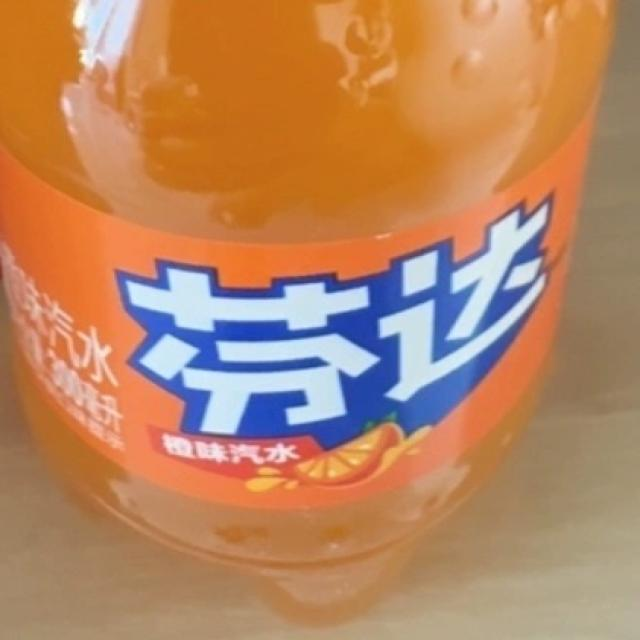orange: (105, 190, 561, 494)
